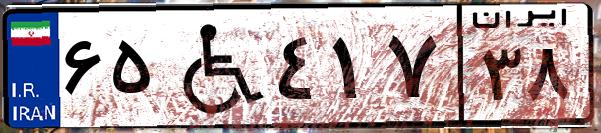1: (330, 28, 385, 110)
3: (475, 38, 525, 113)
4: (270, 28, 330, 110)
5: (110, 28, 158, 98)
6: (57, 26, 110, 100)
7: (385, 28, 445, 110)
8: (525, 38, 570, 115)
ژ (معلولین و جانبازان): (158, 12, 270, 120)
